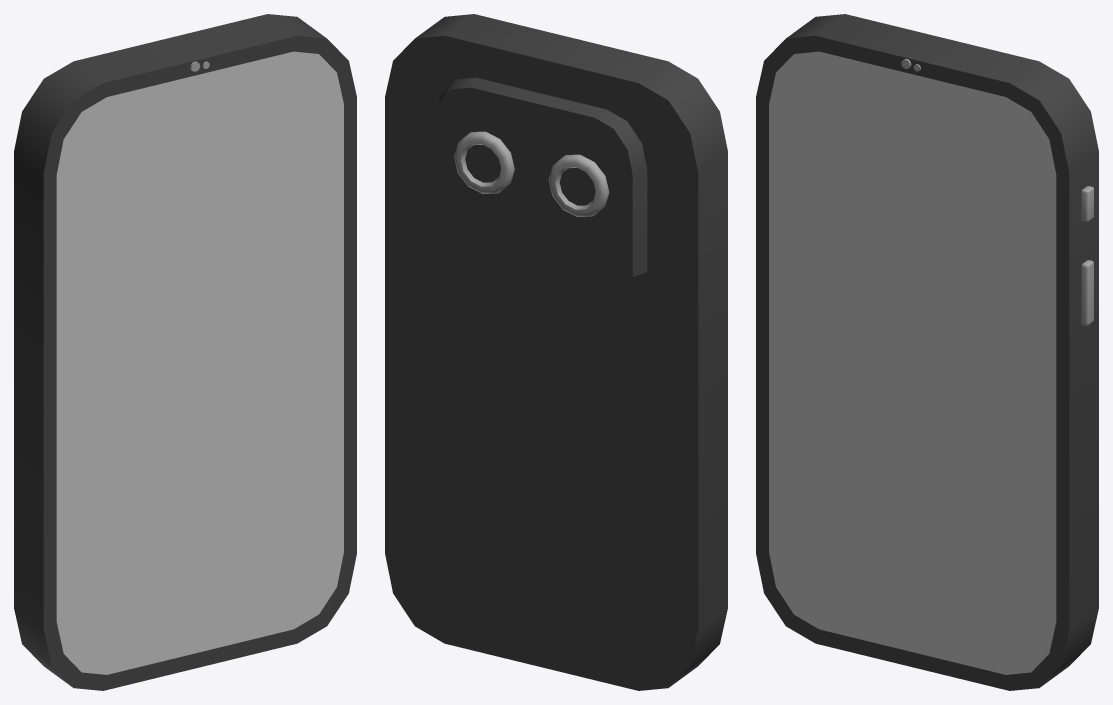
File: Mobile_1.fbx
3 views of the same model, side by side, from view 1: azimuth 30°, elevation 25°; view 2: azimuth 150°, elevation 25°; view 3: azimuth 330°, elevation 25° (orthographic).
Visible parts, largest first — view 1: Mobile_1; view 2: Mobile_1; view 3: Mobile_1.
Part boxes in pixels (x1,y1,x2,y2): Mobile_1: (14, 14, 356, 690); Mobile_1: (385, 14, 727, 690); Mobile_1: (756, 14, 1098, 690).
Size of the model in its own units: 0.0846 by 0.1534 by 0.0206.
